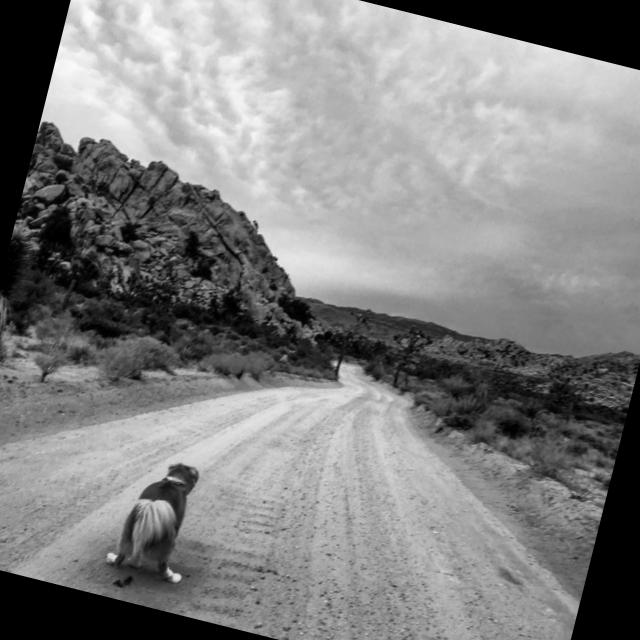squatting: (99, 444, 216, 592)
